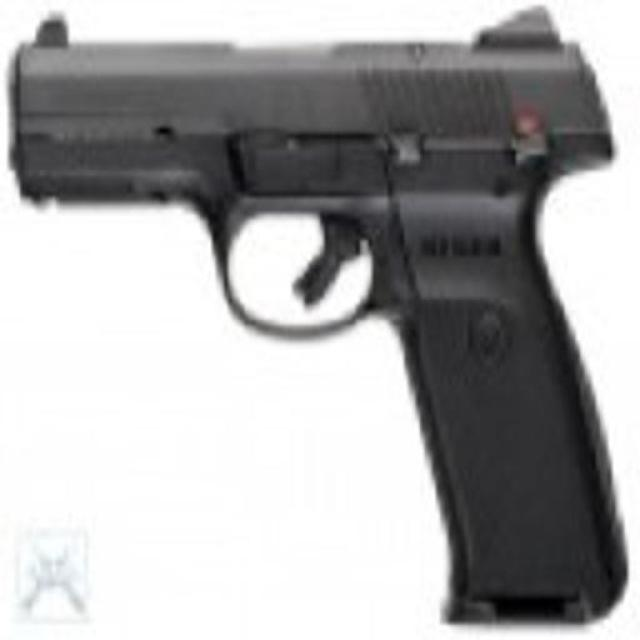pistol: (20, 5, 620, 629)
